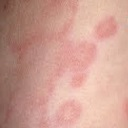Hives: (19, 40, 97, 93)
